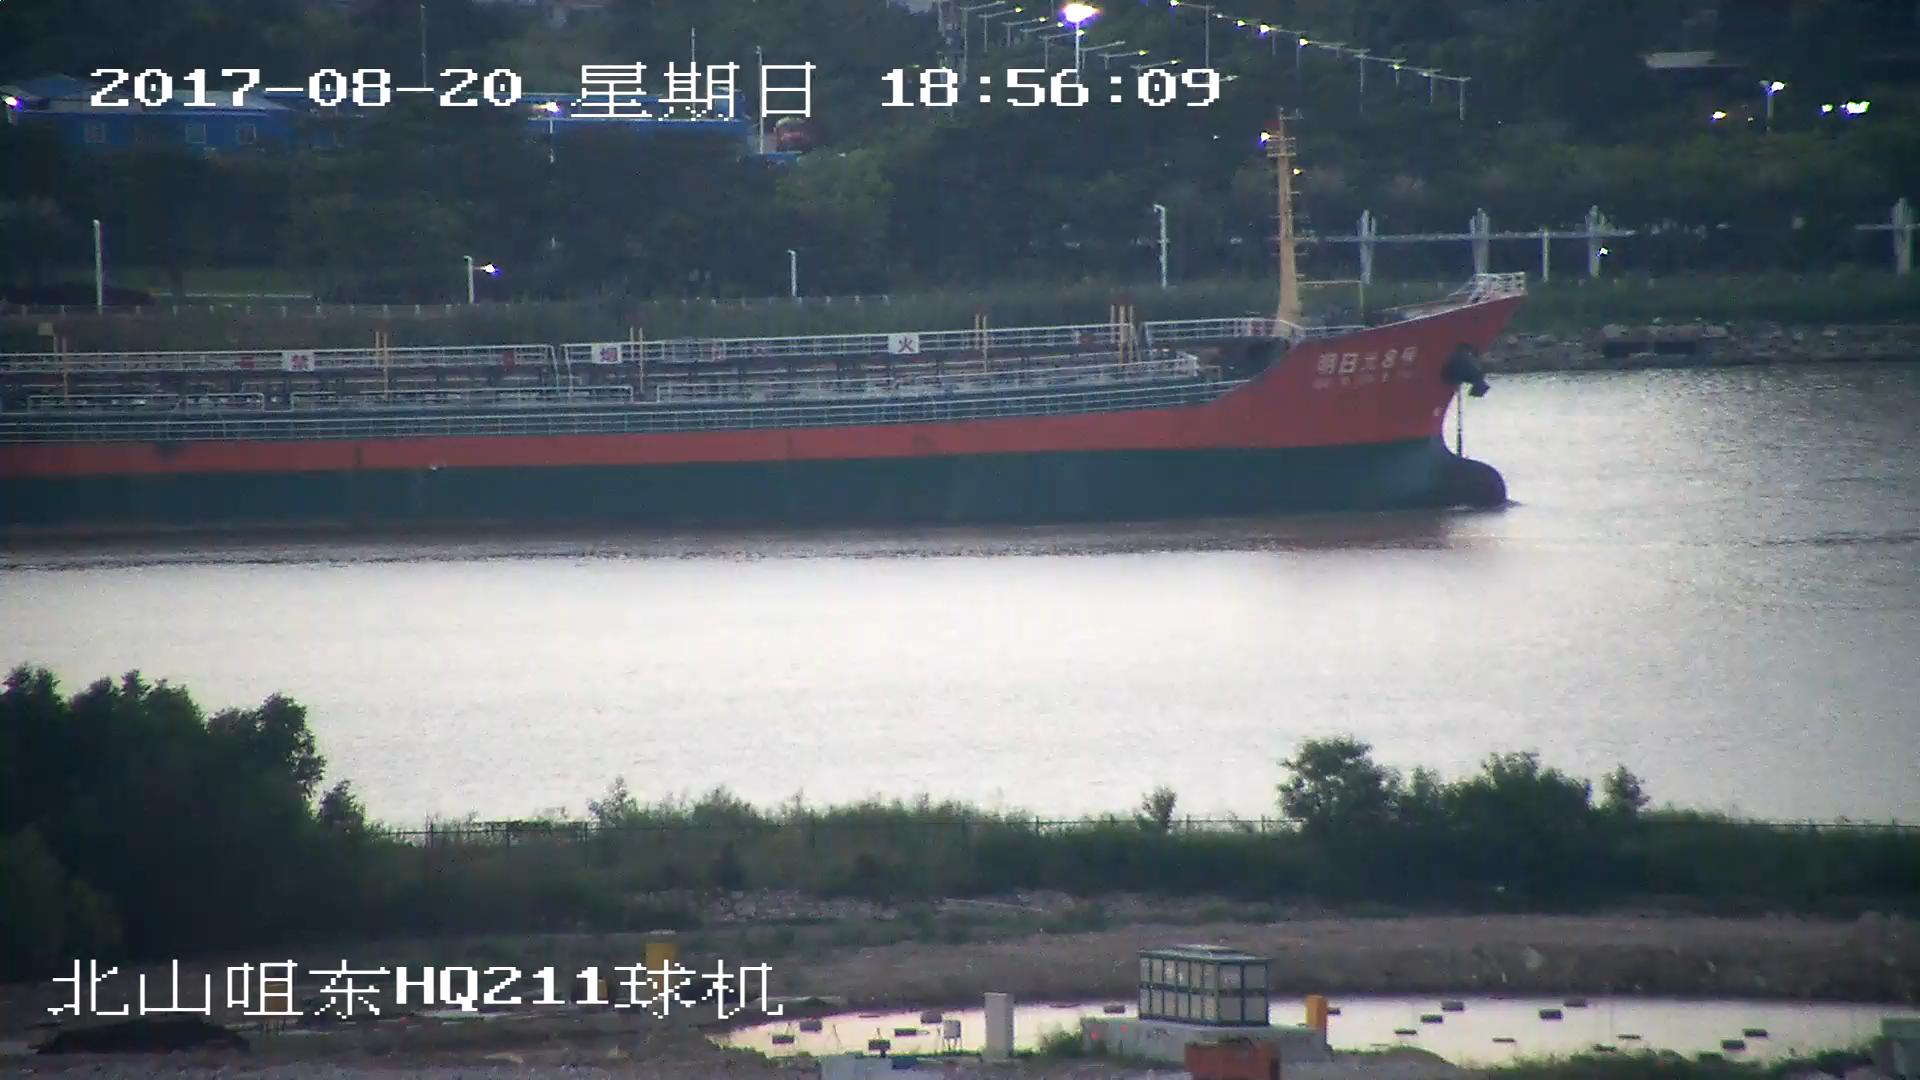Ship: (3, 125, 1528, 524)
